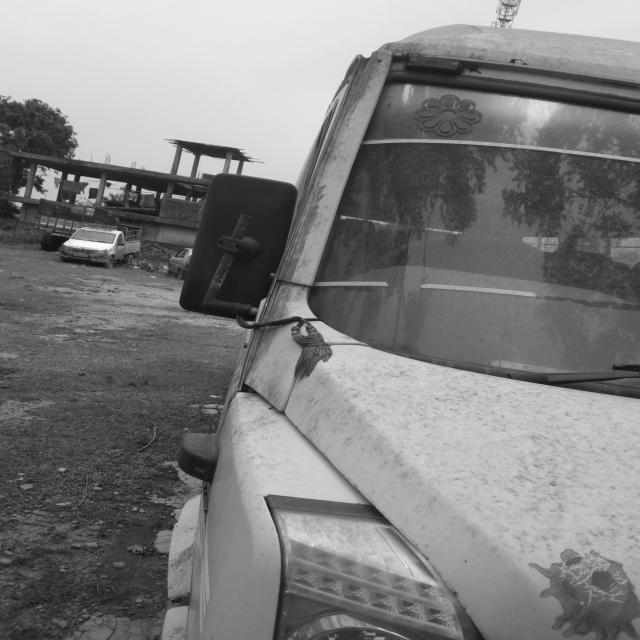Car: (60, 225, 140, 268)
Traveller: (162, 25, 640, 640)
